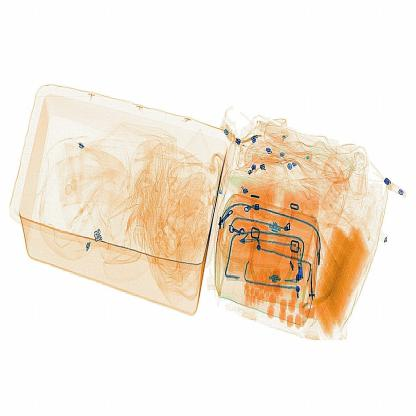wrench: (301, 253, 321, 311)
